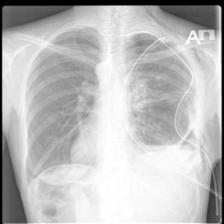tuberculosis: (20, 27, 206, 187)
